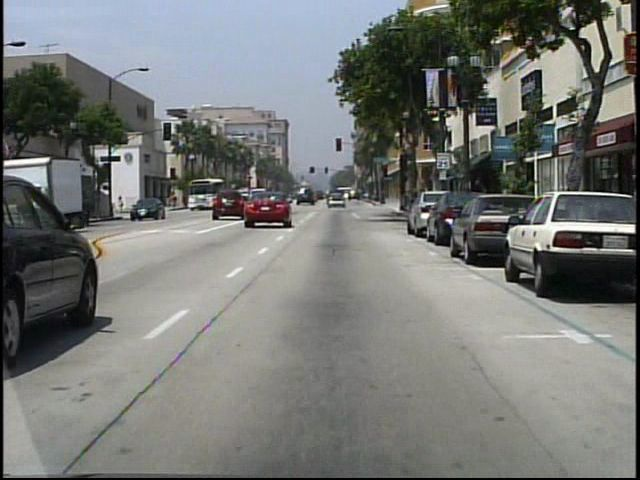person: (118, 196, 127, 217)
